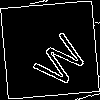W: (25, 25, 90, 91)
